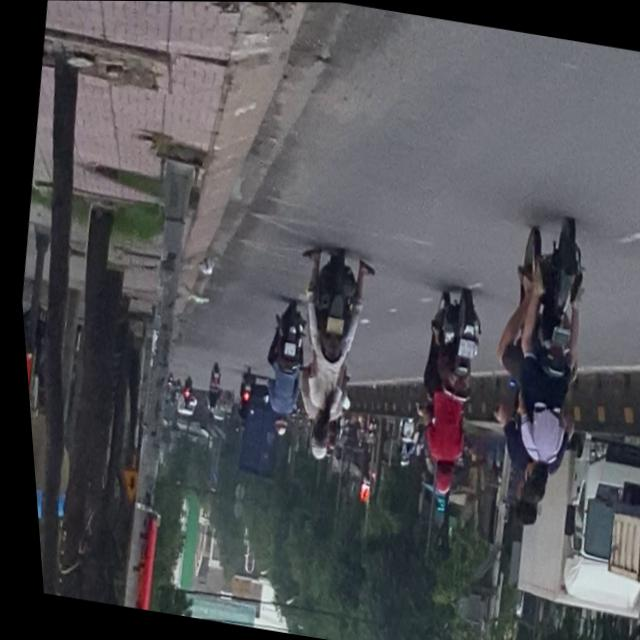helmet: (299, 414, 329, 463), (423, 460, 450, 495), (506, 497, 534, 530)
licenseplate: (459, 206, 612, 536), (271, 241, 382, 467), (393, 281, 492, 499)
motorcyclist: (509, 456, 546, 507)
nohelmet: (452, 338, 472, 359), (320, 318, 339, 335)
